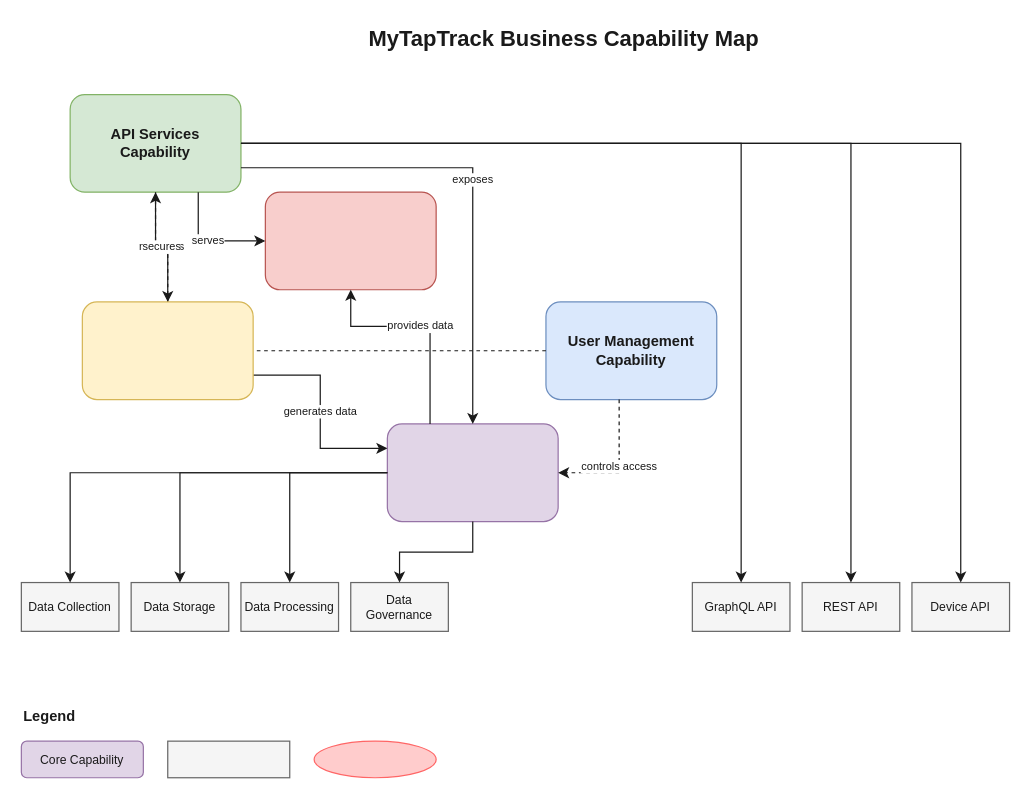
The diagram is 1031 pixels wide and 799 high, and some of its shapes have lost their labels. Each missing label, with the centre of its shape:
"Cross-cutting" goes at (x=374, y=759).
"Data Management Capability" goes at (x=472, y=472).
"Device Integration Capability" goes at (x=167, y=350).
"Reporting & Analytics Capability" goes at (x=350, y=240).
"Sub-capability" goes at (x=228, y=759).
